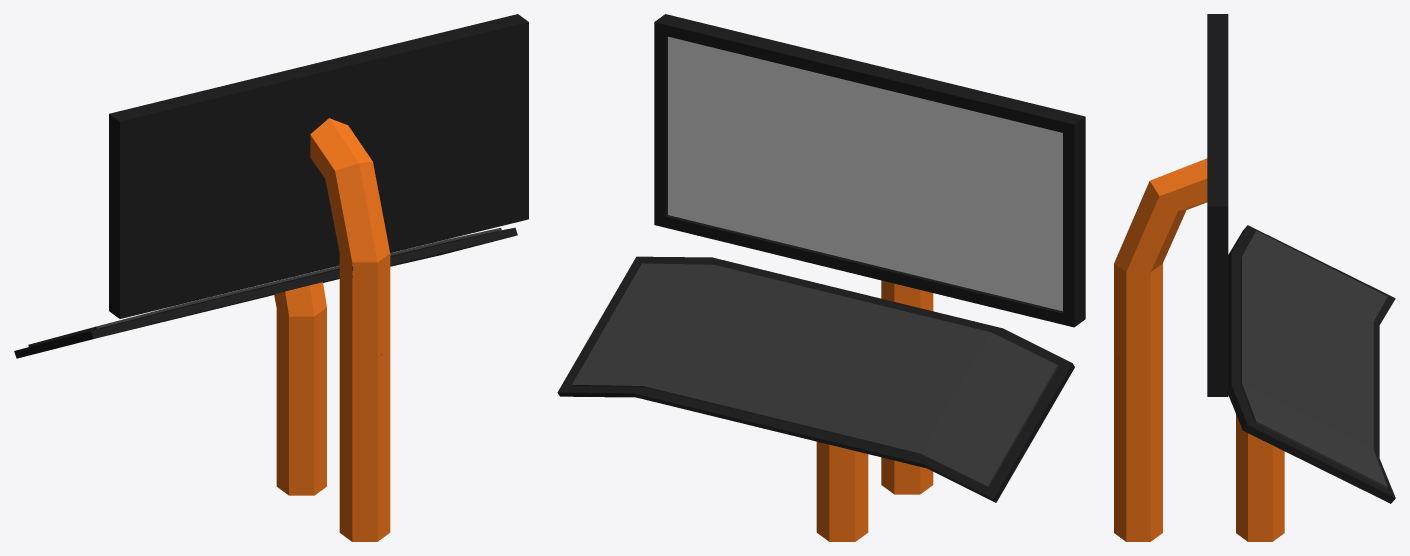
Rendered from model-scenario-levelSafeZone-headquarters-save-area-computer.fbx.
The picture shows the model from 3 angles, left to right: view 1: azimuth 30°, elevation 25°; view 2: azimuth 150°, elevation 25°; view 3: azimuth 270°, elevation 25°; orthographic projection. The views are drawn at different scales.
Parts seen in each view (by area): view 1: save_area_computer; view 2: save_area_computer; view 3: save_area_computer.
Part boxes in pixels (bbox=[...]): save_area_computer: bbox=[14, 14, 528, 541]; save_area_computer: bbox=[557, 14, 1085, 541]; save_area_computer: bbox=[1114, 14, 1395, 541].
Bounding box in the file's own units: 4.5 × 2.68 × 4.42.
Materials: 2 (1 with a texture image).
